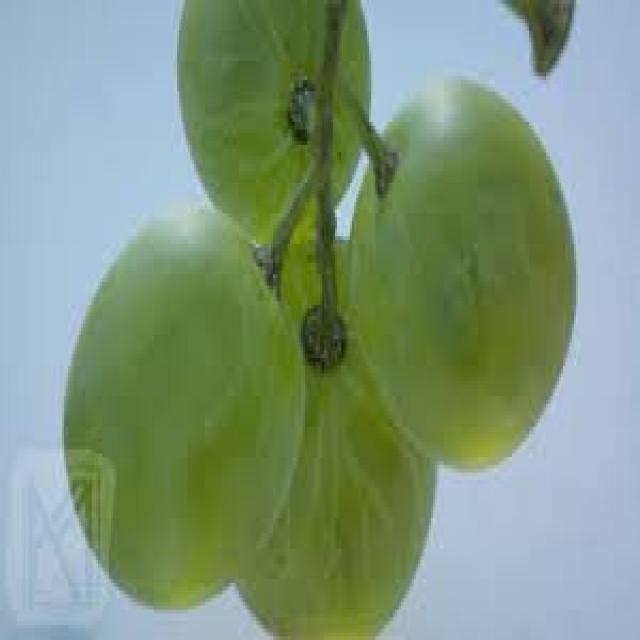organic waste: (62, 198, 303, 610), (345, 72, 574, 468), (228, 240, 435, 636), (175, 0, 369, 240)
